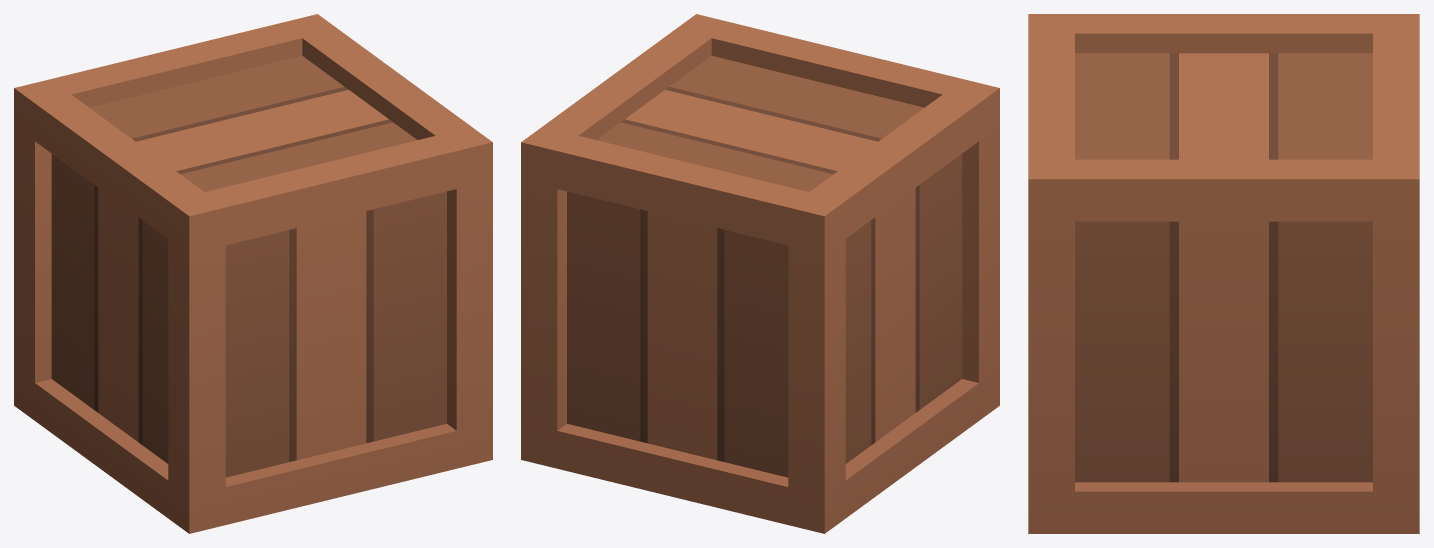
3 views of the same model, side by side, from view 1: azimuth 30°, elevation 25°; view 2: azimuth 150°, elevation 25°; view 3: azimuth 270°, elevation 25° (orthographic). The views are drawn at different scales.
Visible parts, largest first — view 1: box 2; view 2: box 2; view 3: box 2.
Part boxes in pixels (bbox=[...]): box 2: bbox=[14, 14, 492, 533]; box 2: bbox=[521, 14, 999, 533]; box 2: bbox=[1028, 14, 1419, 533].
Bounding box in the file's own units: 71.7 × 71.7 × 71.7.
